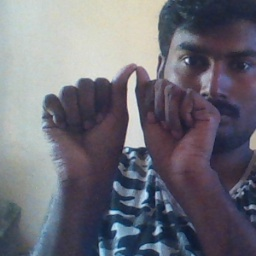A: (50, 60, 201, 173)
